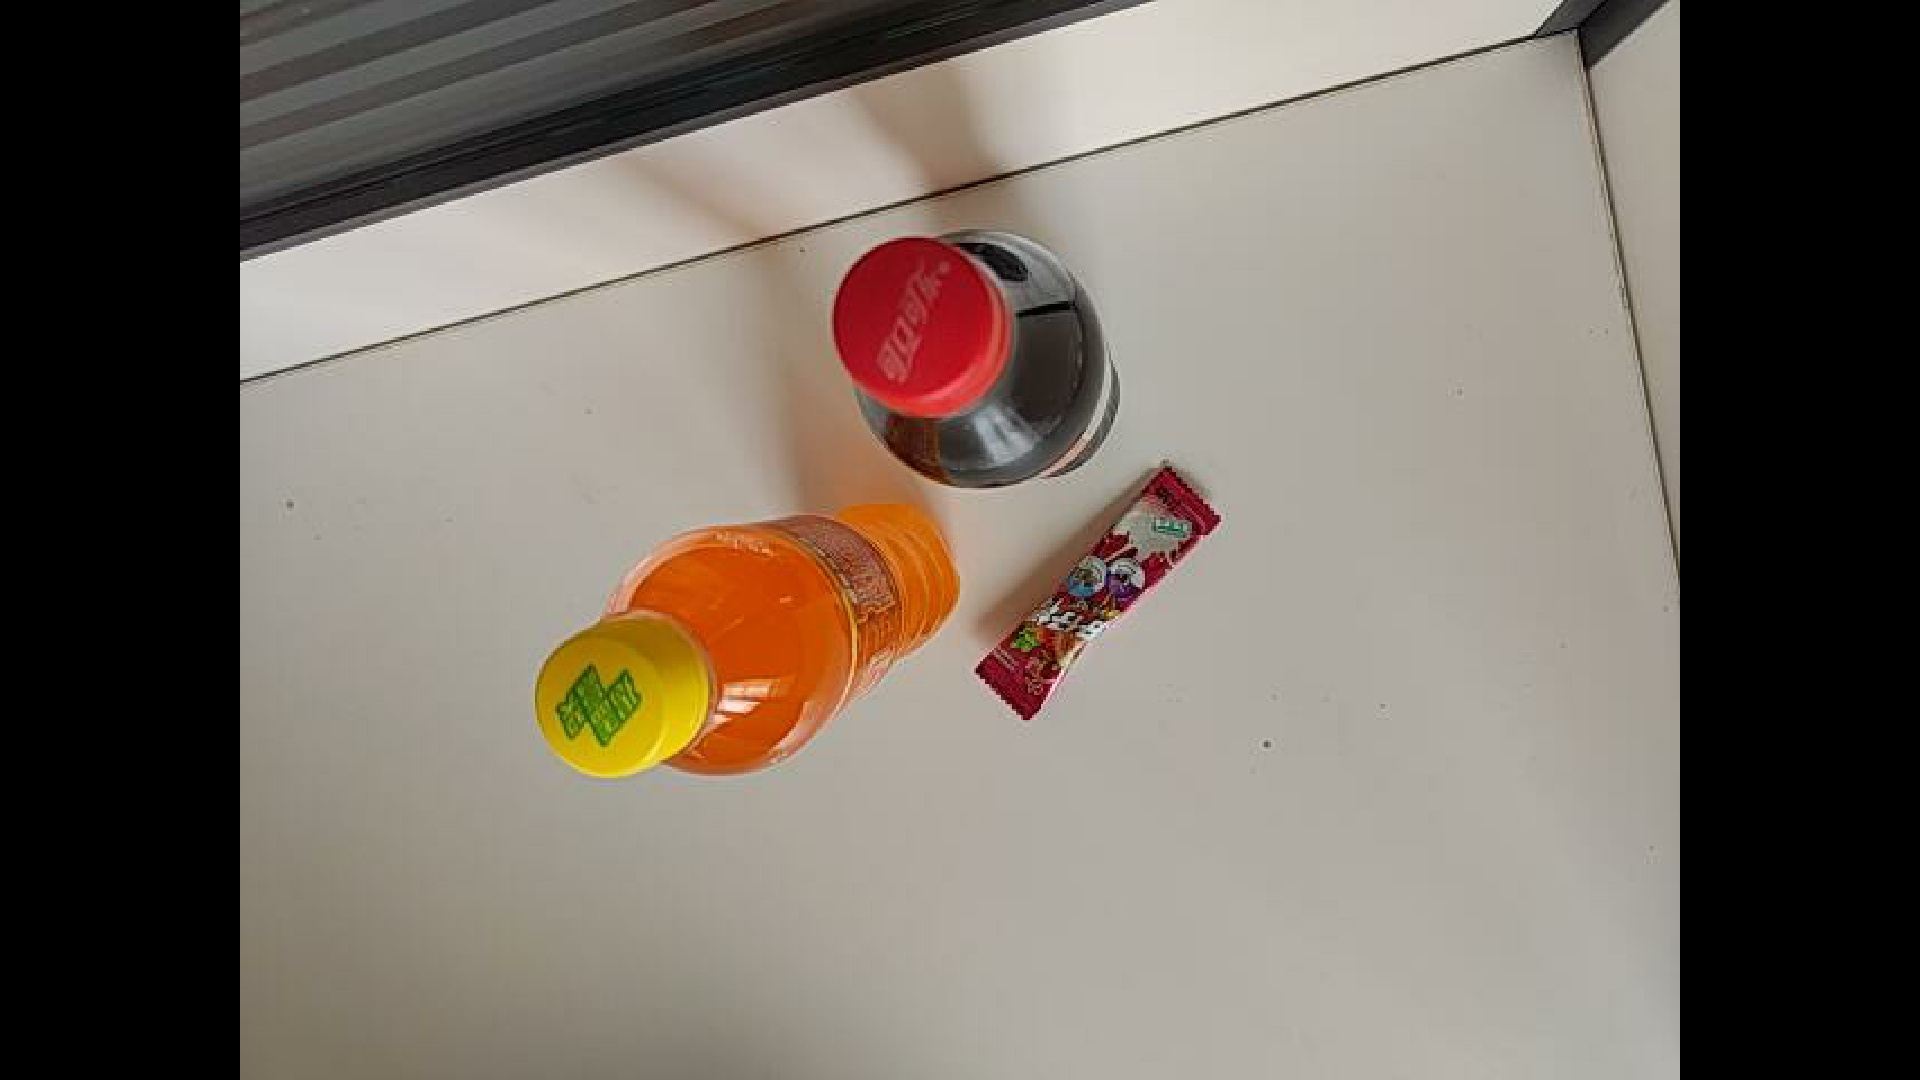cola: (829, 225, 1121, 491)
fenta: (531, 500, 961, 781)
sugar: (812, 462, 1226, 700)
